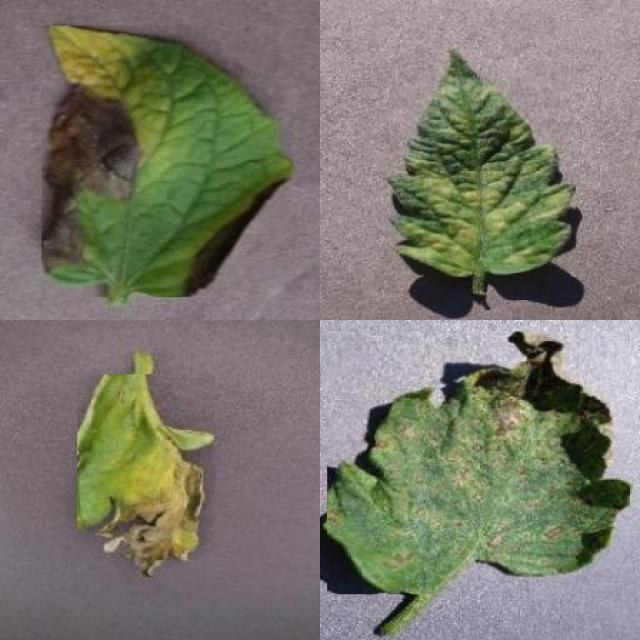Early Blight: (42, 26, 294, 297)
Late Blight: (78, 375, 215, 578)
Leaf Mold: (388, 46, 576, 277)
Septoria: (328, 332, 631, 595)
